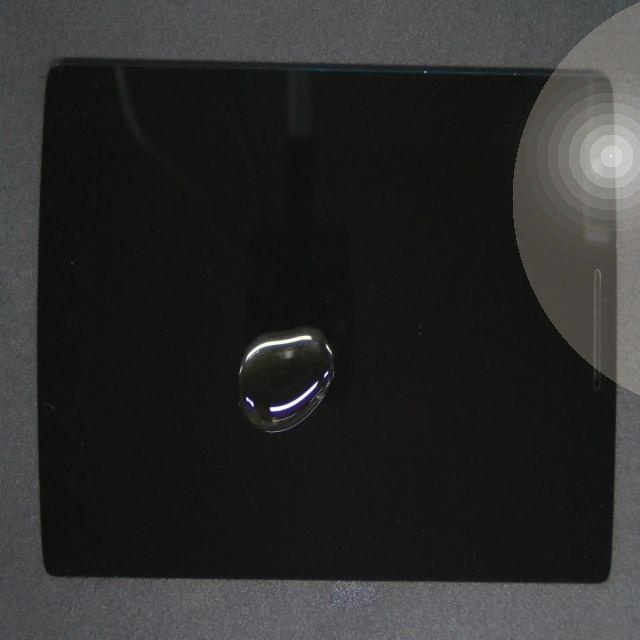oil: (171, 213, 504, 553)
